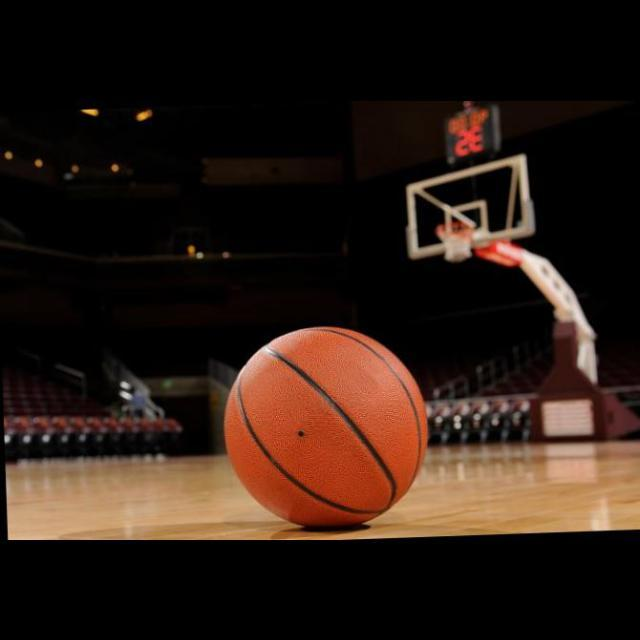basketball: (226, 326, 426, 524)
